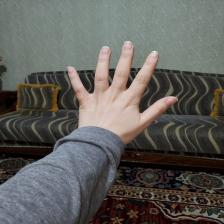five: (62, 38, 180, 135)
